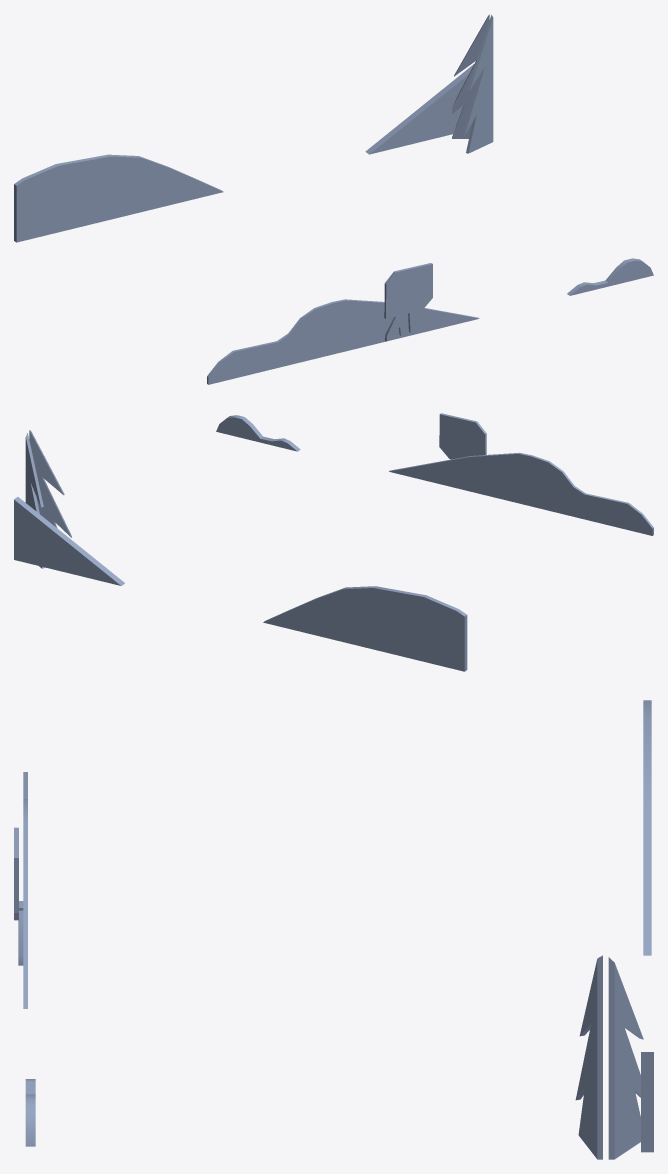
Rendered from frame_0072.glb.
The picture shows the model from 3 angles, top to bottom: view 1: azimuth 30°, elevation 25°; view 2: azimuth 150°, elevation 25°; view 3: azimuth 270°, elevation 25°; orthographic projection. The views are drawn at different scales.
Visible parts, largest first — view 1: export_trees_001.002; view 2: export_trees_001.002; view 3: export_trees_001.002.
Boxes of the visible parts, <box> form: export_trees_001.002: <box>14,14,653,384</box>; export_trees_001.002: <box>14,413,653,671</box>; export_trees_001.002: <box>14,700,653,1159</box>.
Size of the model in its own units: 0.4327 by 0.113 by 0.321.
